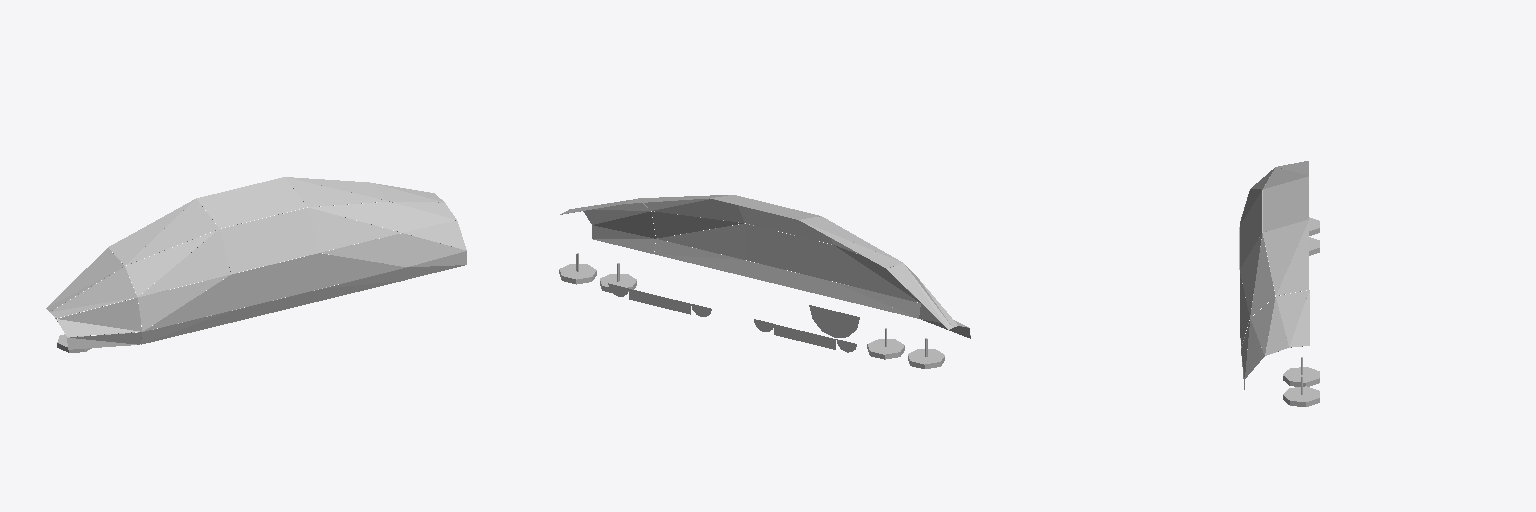
The model's file is loop.obj.
The picture shows the model from 3 angles: view 1: azimuth 30°, elevation 25°; view 2: azimuth 150°, elevation 25°; view 3: azimuth 270°, elevation 25°; orthographic projection.
Visible parts, largest first — view 1: polySurface1675, polySurface1672, polySurface1669, polySurface1670, polySurface1667; view 2: polySurface1675, polySurface1669, polySurface1672, polySurface1667, pCylinder2, polySurface1670, pCube1, pCylinder3; view 3: polySurface1669, polySurface1667, polySurface1675, pCylinder2, polySurface1672.
Boxes of the visible parts, <box> form: polySurface1675: <box>196,177,318,322</box>; polySurface1672: <box>108,199,230,344</box>; polySurface1669: <box>285,177,406,301</box>; polySurface1670: <box>46,248,141,349</box>; polySurface1667: <box>374,183,466,279</box>; polySurface1675: <box>710,195,832,296</box>; polySurface1669: <box>624,195,744,275</box>; polySurface1672: <box>799,216,920,318</box>; polySurface1667: <box>560,199,655,253</box>; pCylinder2: <box>559,264,944,368</box>; polySurface1670: <box>887,263,970,338</box>; pCube1: <box>629,289,835,349</box>; pCylinder3: <box>809,305,859,337</box>; polySurface1669: <box>1240,220,1308,347</box>; polySurface1667: <box>1241,290,1309,389</box>; polySurface1675: <box>1239,177,1308,269</box>; pCylinder2: <box>1283,217,1319,406</box>; polySurface1672: <box>1240,161,1308,224</box>.
Size of the model in its own units: 9.12 by 2.58 by 1.64.